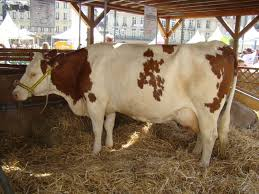cow: (8, 46, 62, 108)
